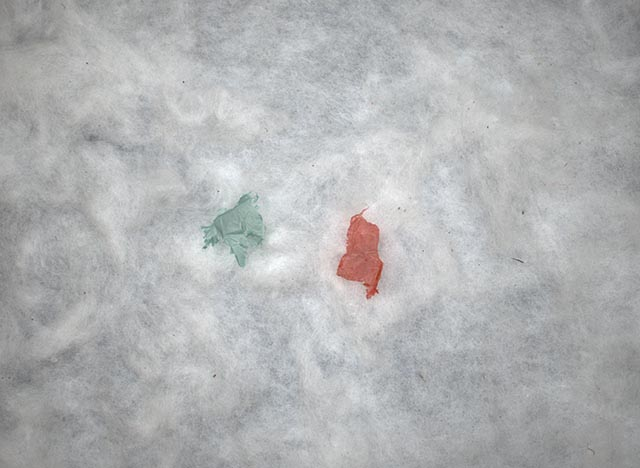plastic film: (201, 190, 267, 270), (336, 206, 384, 302)
